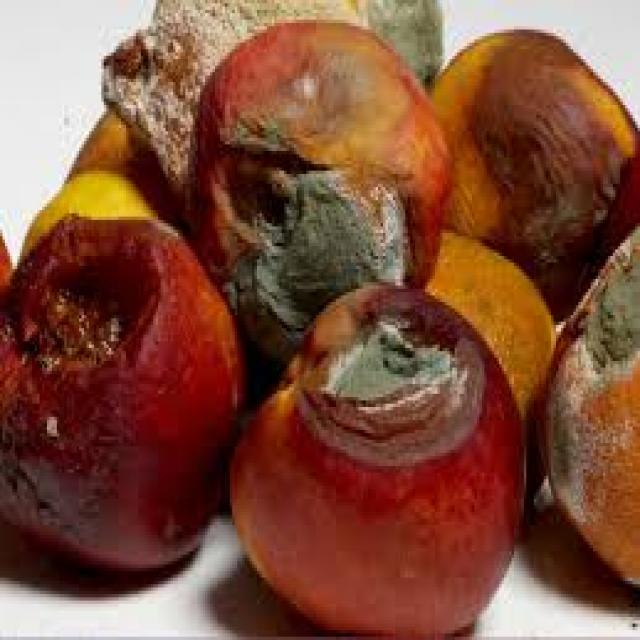organic waste: (225, 279, 521, 637), (183, 16, 447, 361), (0, 213, 242, 574), (99, 0, 440, 203), (425, 26, 638, 322), (534, 220, 638, 587), (420, 226, 554, 509), (62, 105, 175, 220), (15, 168, 156, 260)
